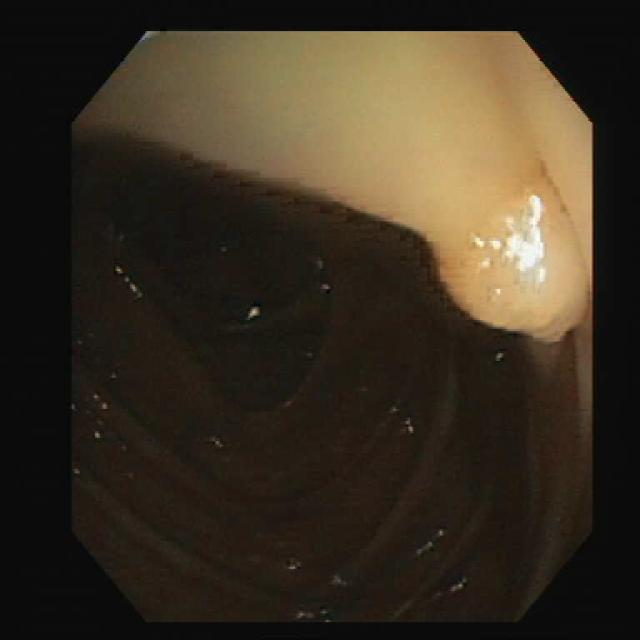tumor: (433, 178, 588, 340)
